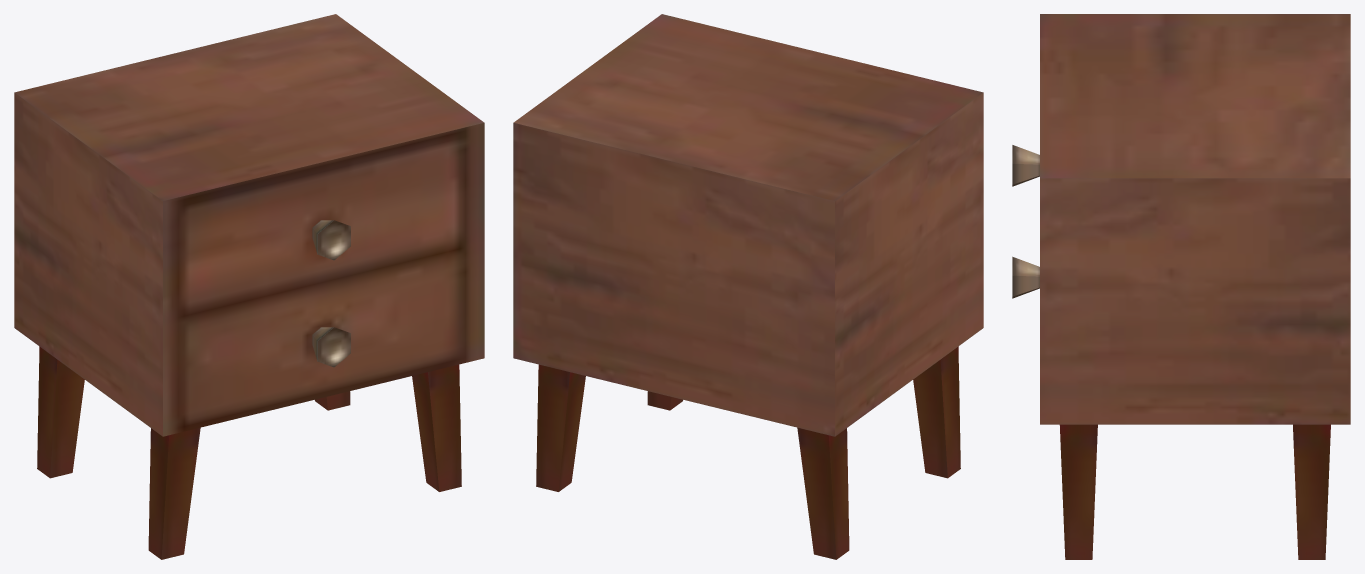
The model's file is nightstand.glb.
3 views of the same model, side by side, from view 1: azimuth 30°, elevation 25°; view 2: azimuth 150°, elevation 25°; view 3: azimuth 270°, elevation 25° (orthographic). The views are drawn at different scales.
Visible parts, largest first — view 1: Nightstand_0; view 2: Nightstand_0; view 3: Nightstand_0.
Part boxes in pixels (x1,y1,x2,y2): Nightstand_0: (14, 14, 484, 559); Nightstand_0: (513, 14, 983, 559); Nightstand_0: (1012, 14, 1350, 559).
Size of the model in its own units: 0.4545 by 0.5 by 0.3962.
Materials: 1 (1 with a texture image).
